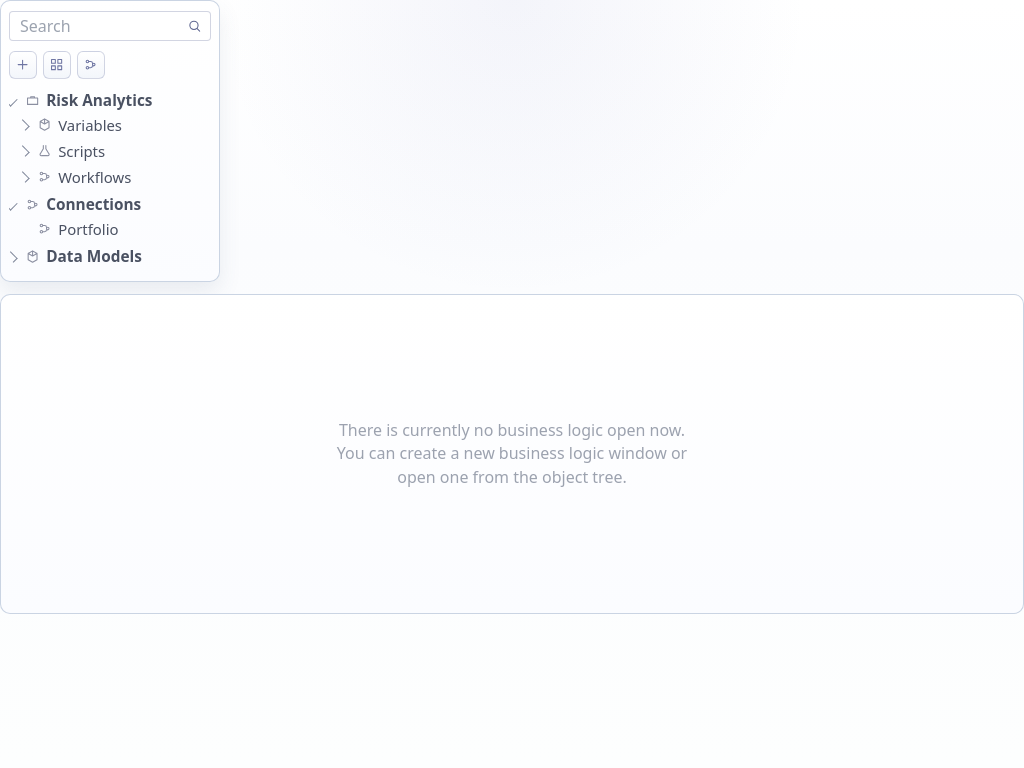
Test: CreditModelerWorkbench connections › opens a populated builder from a saved connection tree item
Click the button "Portfolio".
click(114, 229)  # box [33,217,194,241]
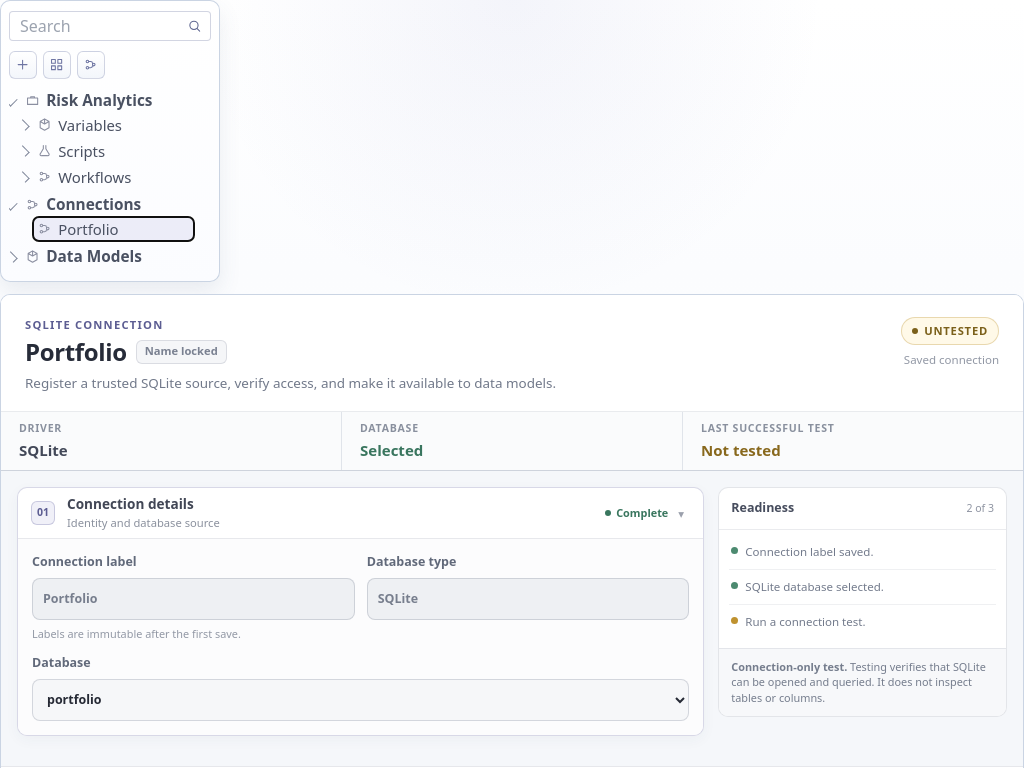
Result: the heading "Portfolio" is shown at [25,338,127,366]
